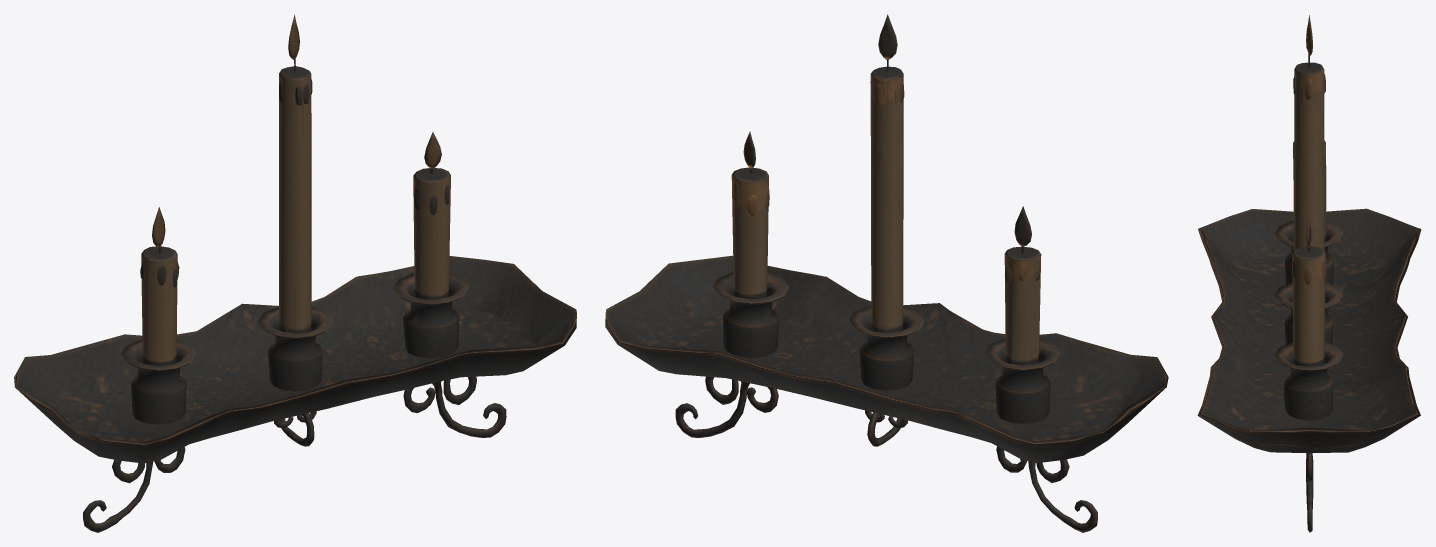
The model's file is VotiveStand.glb.
The picture shows the model from 3 angles, left to right: view 1: azimuth 30°, elevation 25°; view 2: azimuth 150°, elevation 25°; view 3: azimuth 270°, elevation 25°; orthographic projection. The views are drawn at different scales.
Bounding box in the file's own units: 1 × 0.9046 × 0.4263.
1 material, 1 textured.
